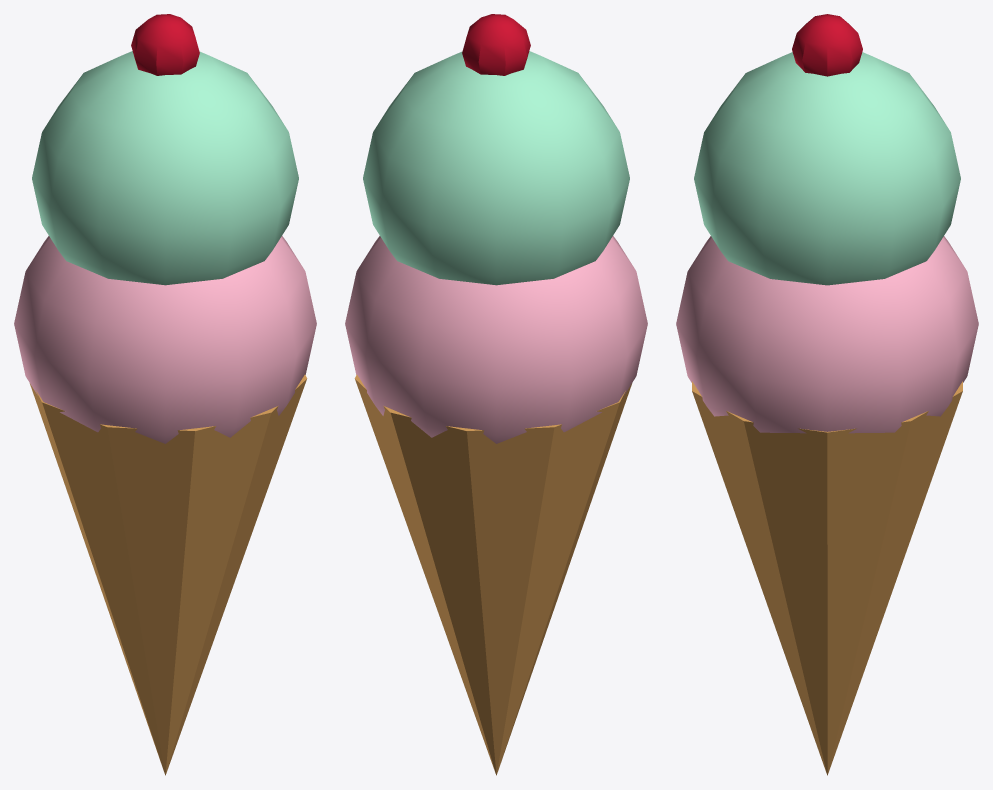
File: IceCream.fbx
3 renders of one model, left to right at view 1: azimuth 30°, elevation 25°; view 2: azimuth 150°, elevation 25°; view 3: azimuth 270°, elevation 25°, orthographic.
Parts seen in each view (by area): view 1: IceCream; view 2: IceCream; view 3: IceCream.
Boxes of the visible parts, <box> form: IceCream: <box>14,14,316,775</box>; IceCream: <box>345,14,647,775</box>; IceCream: <box>676,14,978,775</box>.
Bounding box in the file's own units: 0.68 × 1.88 × 0.68.
1 material, 1 textured.
